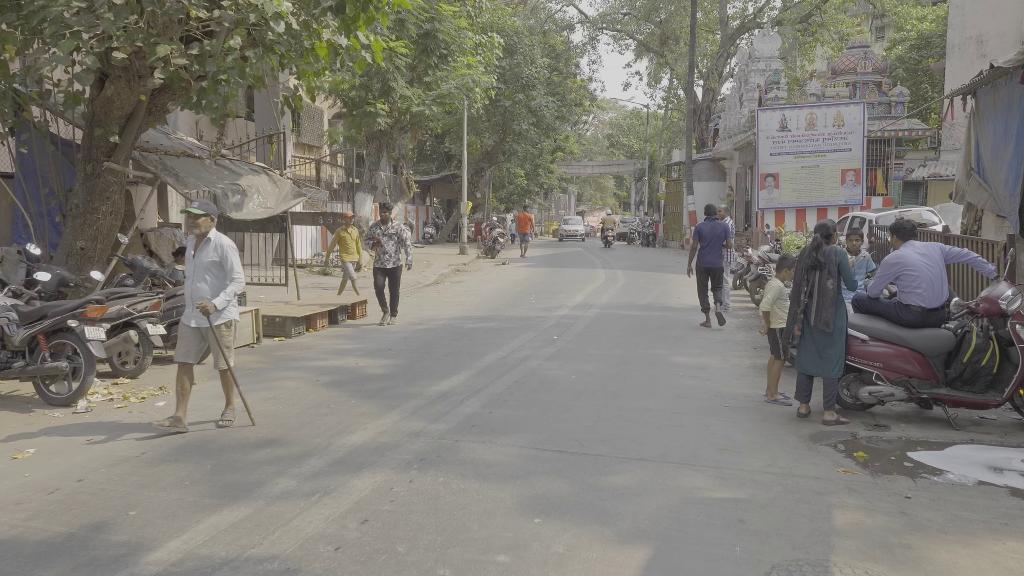garbage: (85, 383, 127, 401), (72, 402, 97, 415), (109, 375, 130, 387), (128, 394, 148, 405)
